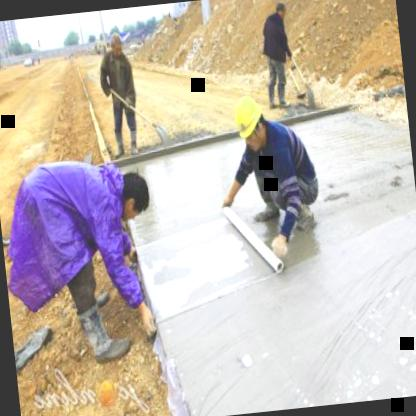head: (110, 167, 152, 222), (106, 26, 126, 62), (273, 0, 291, 21)
helmet: (228, 89, 270, 152)
